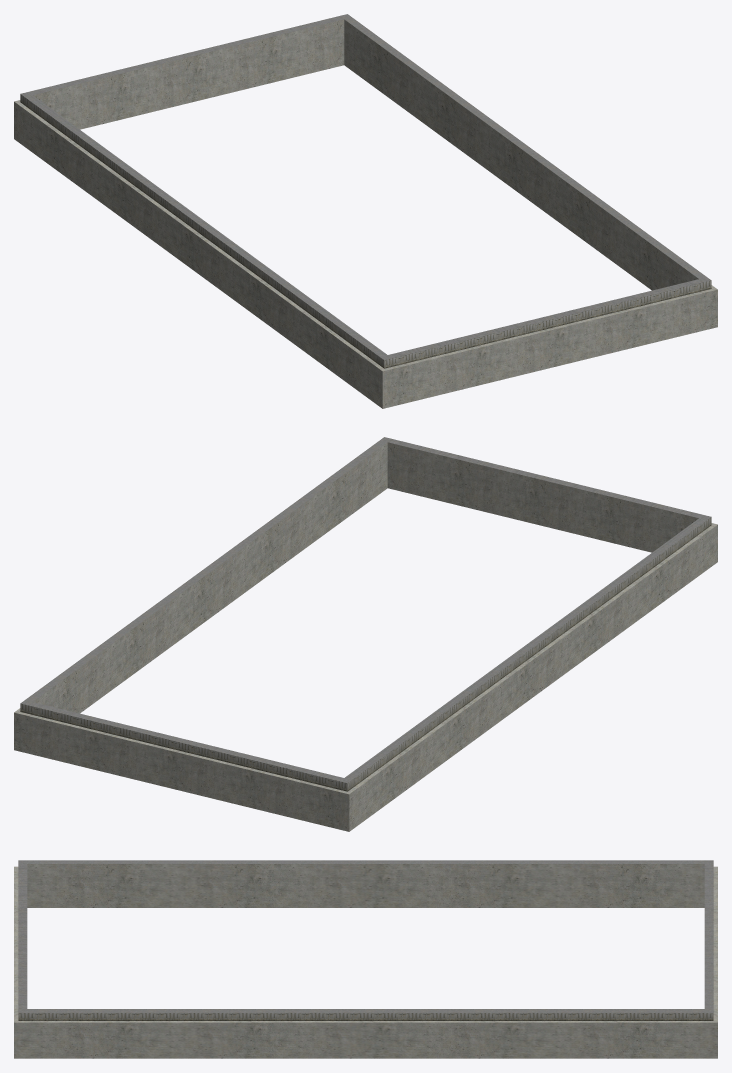
The model's file is mun_all_landing_pad_shuttle_l0.fbx.
3 renders of one model, top to bottom at view 1: azimuth 30°, elevation 25°; view 2: azimuth 150°, elevation 25°; view 3: azimuth 270°, elevation 25°, orthographic. The views are drawn at different scales.
Visible parts, largest first — view 1: mesh_node; view 2: mesh_node; view 3: mesh_node.
Part boxes in pixels (x1,y1,x2,y2): mesh_node: (14, 14, 717, 408); mesh_node: (14, 437, 717, 831); mesh_node: (14, 860, 717, 1058).
Bounding box in the file's own units: 10.5 × 1.38 × 20.
